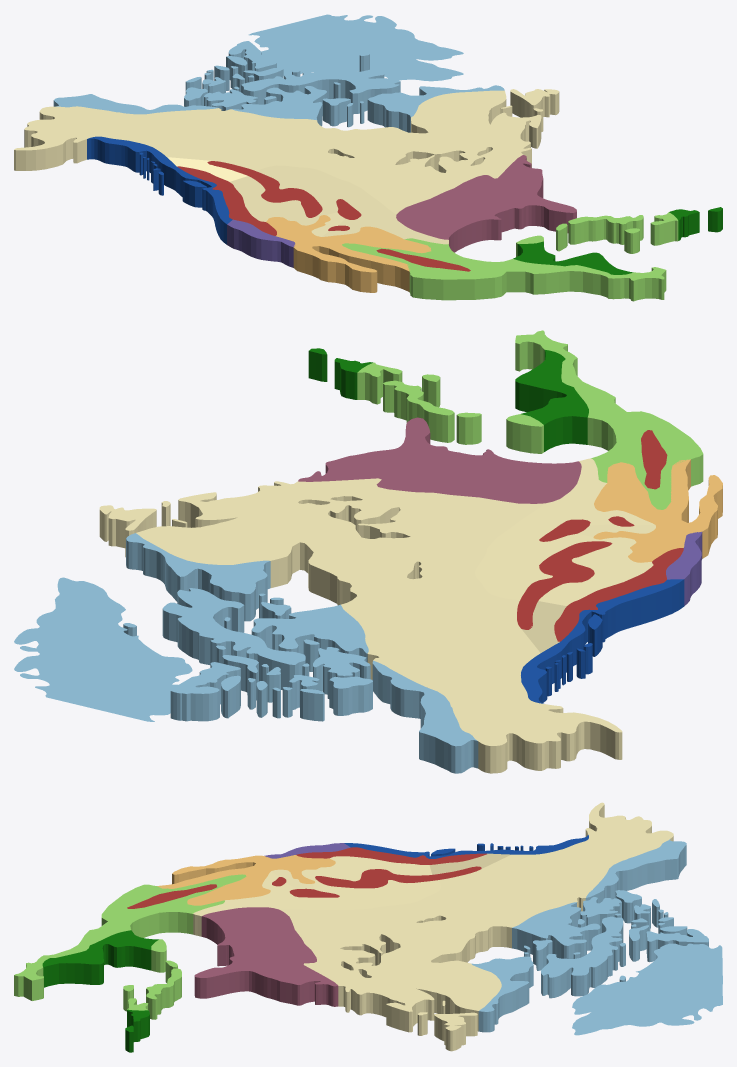
The model's file is northAmericaWeather.glb.
3 views of the same model, one above another, from view 1: azimuth 30°, elevation 25°; view 2: azimuth 150°, elevation 25°; view 3: azimuth 270°, elevation 25° (orthographic). The views are drawn at different scales.
Parts seen in each view (by area): view 1: 温带大陆性气候, 寒带气候, 热带草原气候, 亚热带季风气候, 热带沙漠气候, 温带海洋性气候, 高原山地气候, 热带雨林气候, 地中海气候; view 2: 温带大陆性气候, 寒带气候, 热带草原气候, 亚热带季风气候, 热带沙漠气候, 温带海洋性气候, 高原山地气候, 热带雨林气候, 地中海气候; view 3: 温带大陆性气候, 寒带气候, 亚热带季风气候, 热带草原气候, 热带雨林气候, 热带沙漠气候, 高原山地气候, 温带海洋性气候, 地中海气候.
Part boxes in pixels (x1,y1,x2,y2): 温带大陆性气候: (14, 89, 559, 244); 寒带气候: (53, 14, 504, 132); 热带草原气候: (342, 212, 678, 301); 亚热带季风气候: (396, 155, 576, 252); 热带沙漠气候: (266, 215, 431, 292); 温带海洋性气候: (87, 136, 232, 244); 高原山地气候: (177, 161, 470, 271); 热带雨林气候: (513, 207, 722, 274); 地中海气候: (227, 219, 295, 267); 温带大陆性气候: (99, 458, 655, 773); 寒带气候: (14, 533, 478, 773); 热带草原气候: (357, 330, 703, 509); 亚热带季风气候: (298, 417, 581, 503); 热带沙漠气候: (593, 459, 722, 562); 温带海洋性气候: (521, 579, 684, 703); 高原山地气候: (517, 430, 683, 641); 热带雨林气候: (308, 348, 588, 451); 地中海气候: (666, 531, 702, 605); 温带大陆性气候: (193, 802, 673, 1051); 寒带气候: (471, 839, 722, 1035); 亚热带季风气候: (194, 907, 338, 1006); 热带草原气候: (14, 874, 246, 1019); 热带雨林气候: (42, 930, 158, 1052); 热带沙漠气候: (157, 855, 335, 905); 高原山地气候: (127, 847, 486, 908); 温带海洋性气候: (344, 835, 588, 858); 地中海气候: (264, 843, 350, 858).
Bounding box in the file's own units: 15.21 × 0.6383 × 19.86.
